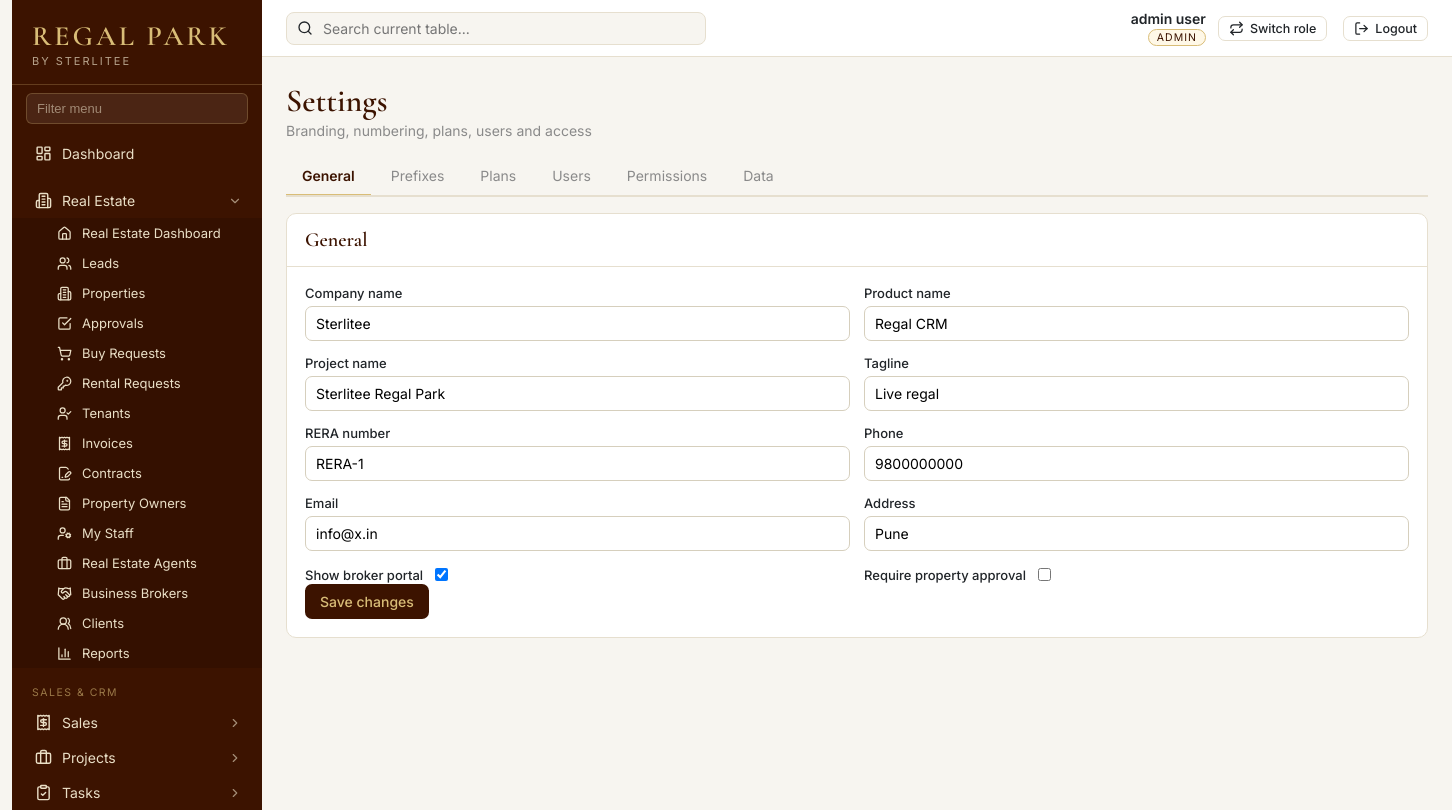
Test: Prefixes tab › PUTs prefixes and nextNumbers with every next number as a number
Check: the button "Logout" is shown, box [1343,16,1428,40]
Check: the heading "Settings" is shown, box [286,81,388,120]
Click the tab "Prefixes".
click(418, 177)  # box [375,157,460,197]
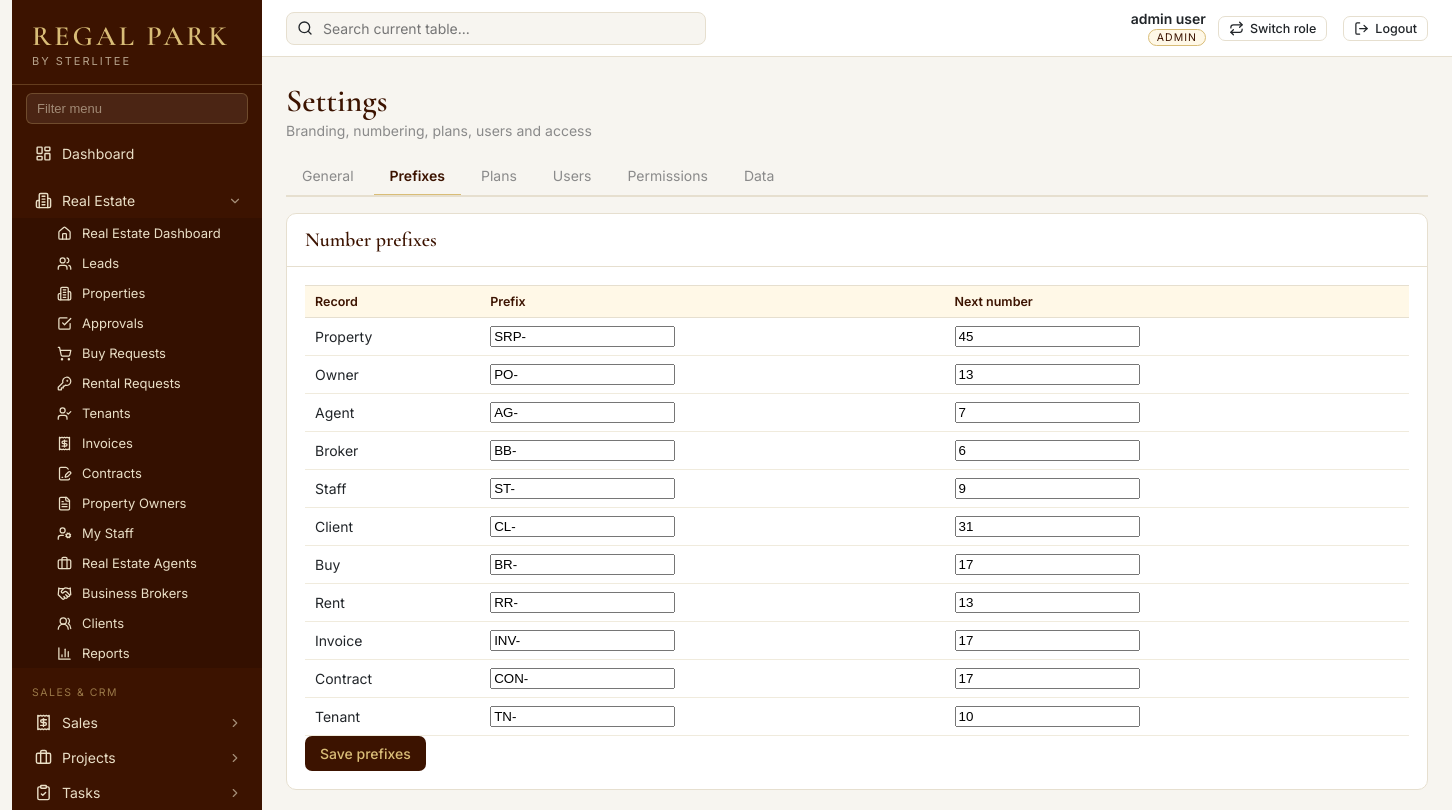
Replace the text in the field named "property prefix" with "PRP-" at [583, 336], box [490,326,675,347]
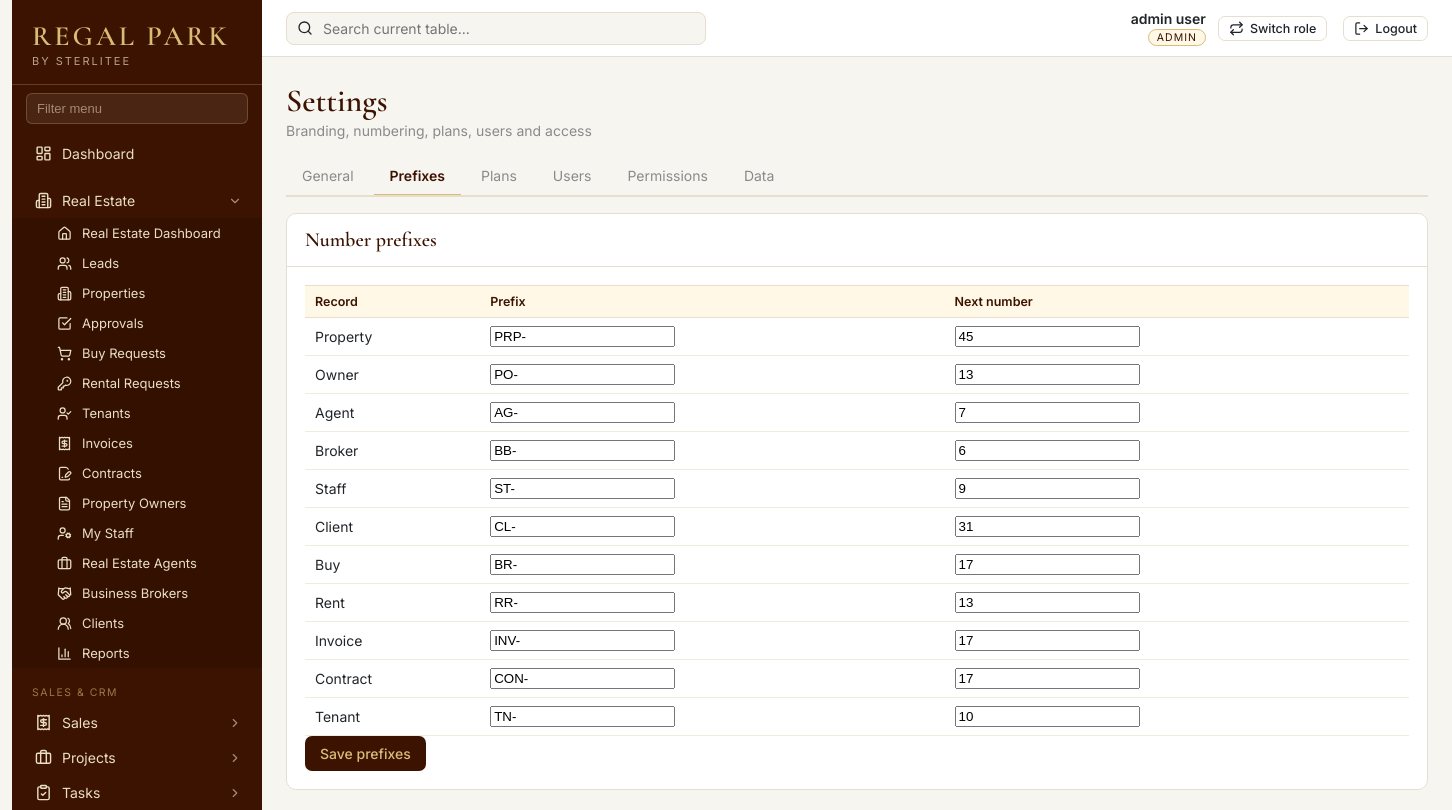
Replace the text in the number field named "property next number" with "50" at [1047, 336], box [955,326,1140,347]
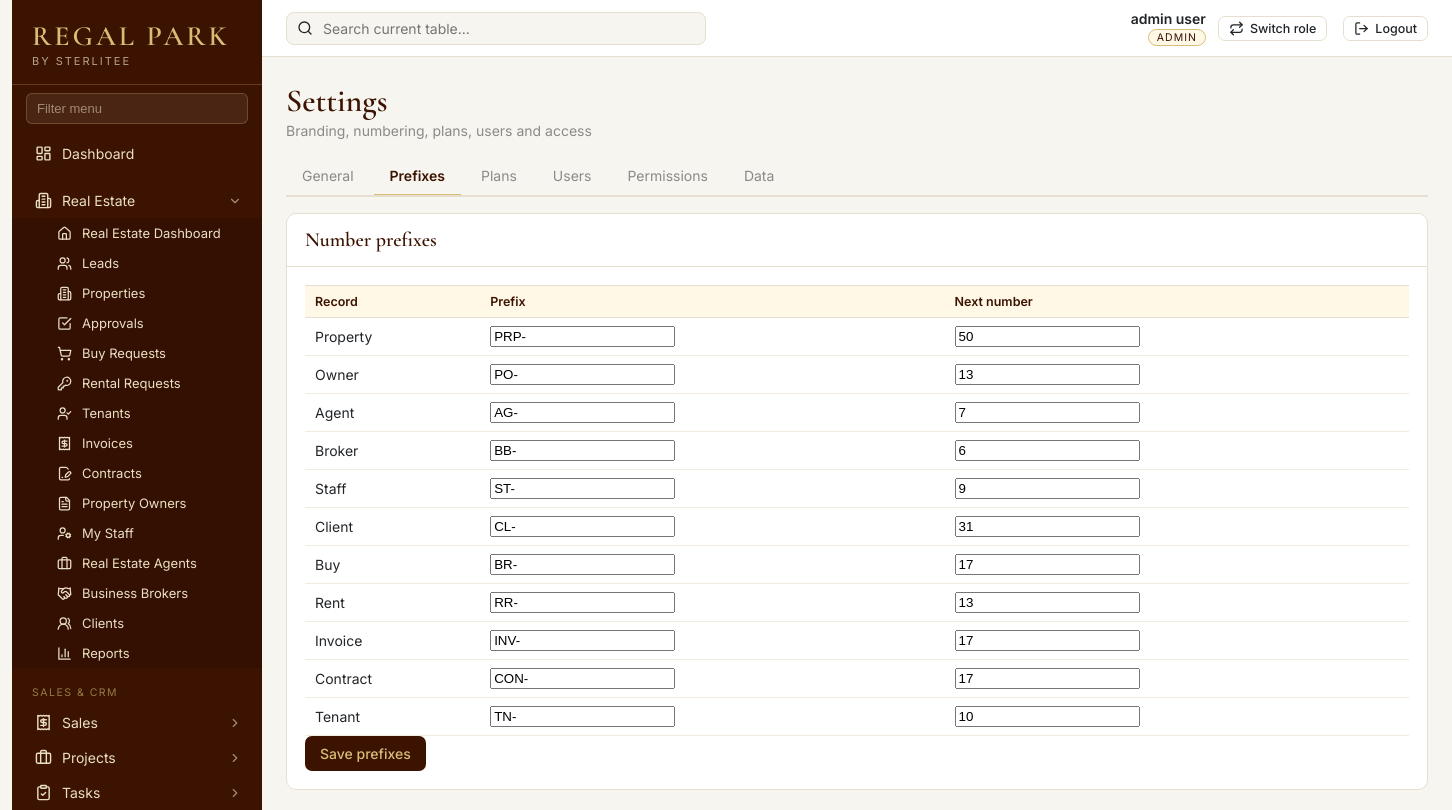
Click the button "Save prefixes".
click(365, 754)  # box [305,736,426,771]
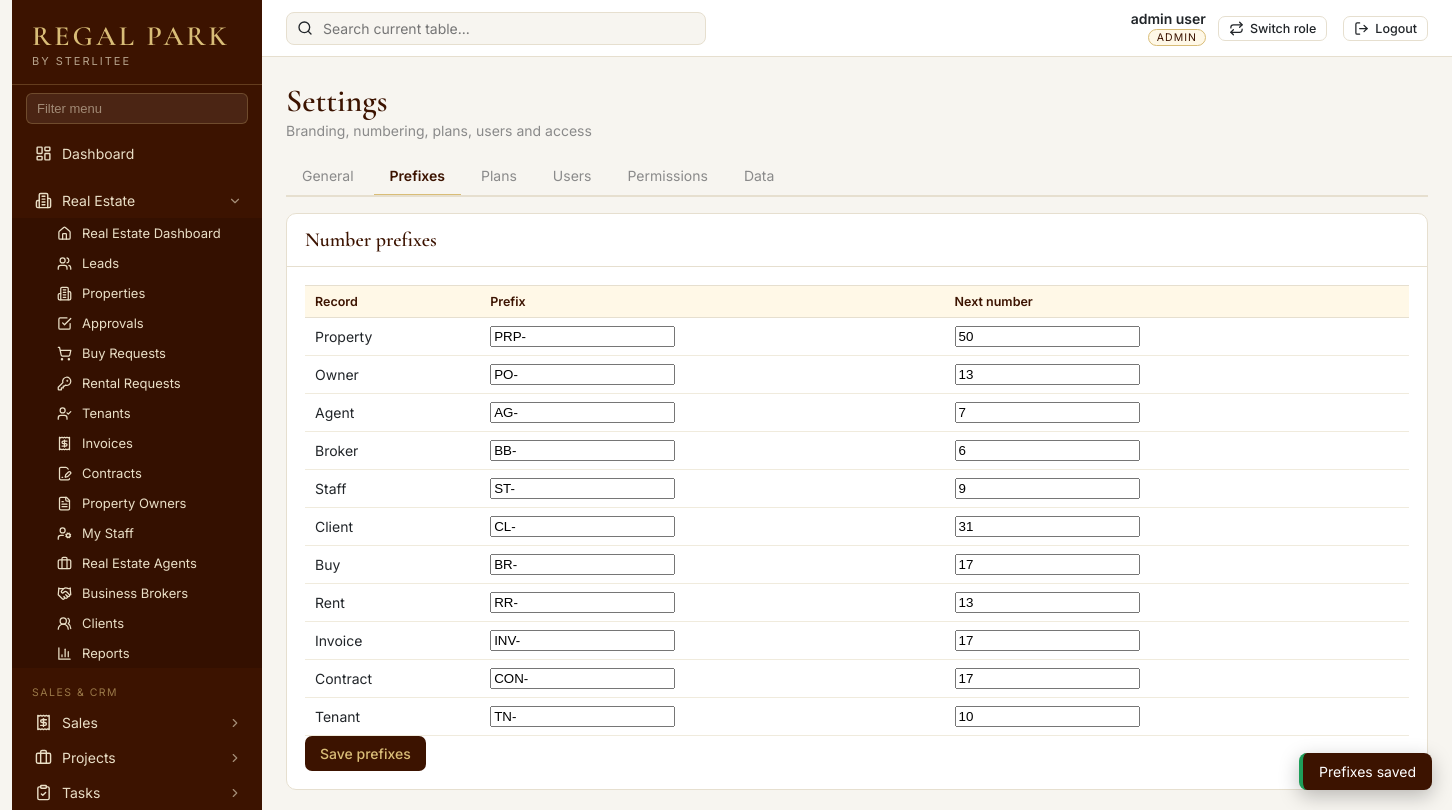
Check: the text "Prefixes saved" is shown, box [1299,753,1432,790]
